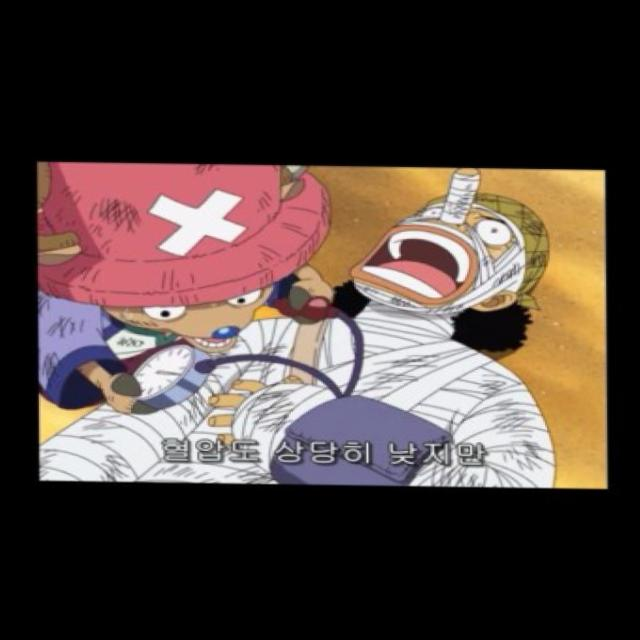Chyopa: (40, 165, 329, 340)
Usopp: (324, 168, 566, 329)
